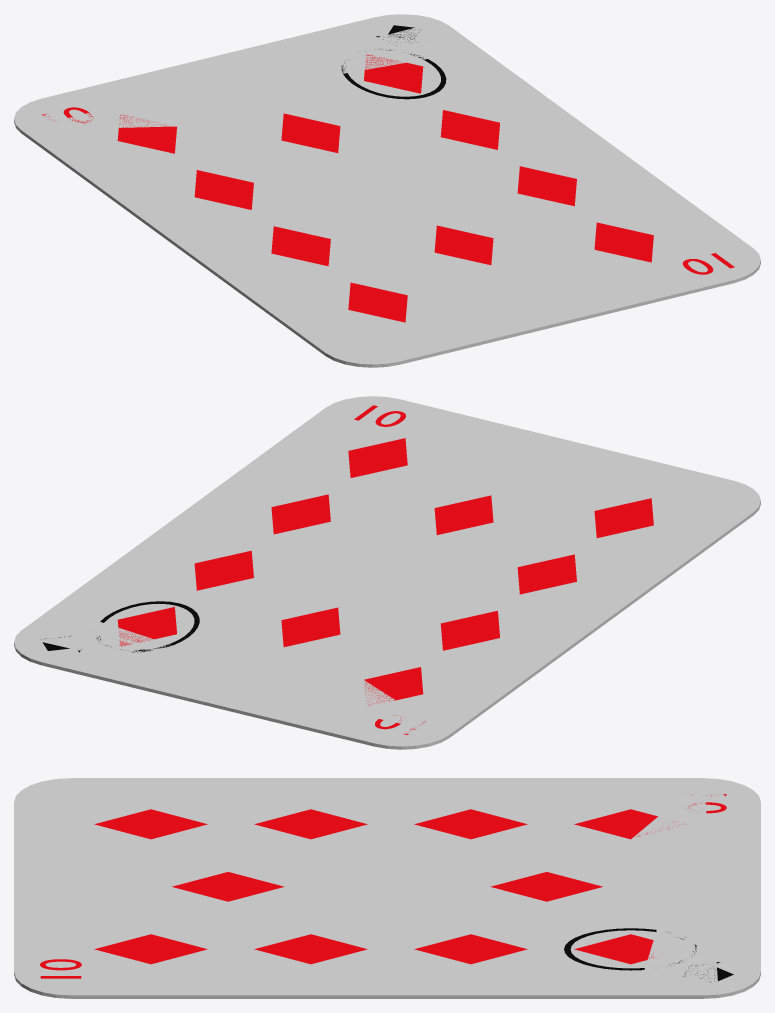
Rendered from karta_k.fbx.
3 views of the same model, one above another, from view 1: azimuth 30°, elevation 25°; view 2: azimuth 150°, elevation 25°; view 3: azimuth 270°, elevation 25° (orthographic). The views are drawn at different scales.
Parts seen in each view (by area): view 1: Plane; view 2: Plane; view 3: Plane.
Boxes of the visible parts, x1,y1,x2,y2 form: Plane: [14, 14, 760, 367]; Plane: [14, 396, 760, 749]; Plane: [14, 778, 760, 998].
Bounding box in the file's own units: 138 × 1 × 200.
